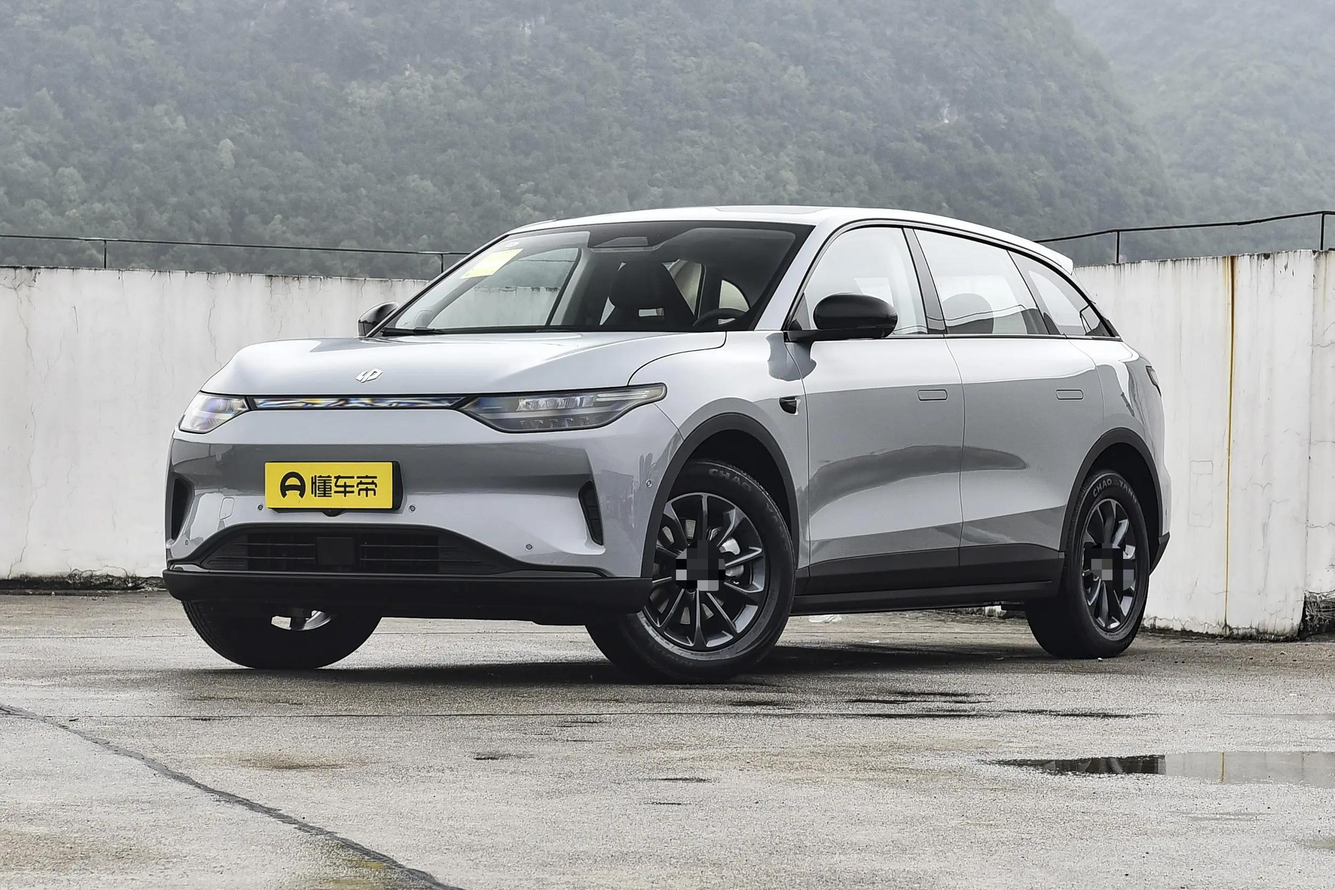LEAPMOTOR: (354, 366, 384, 384)
